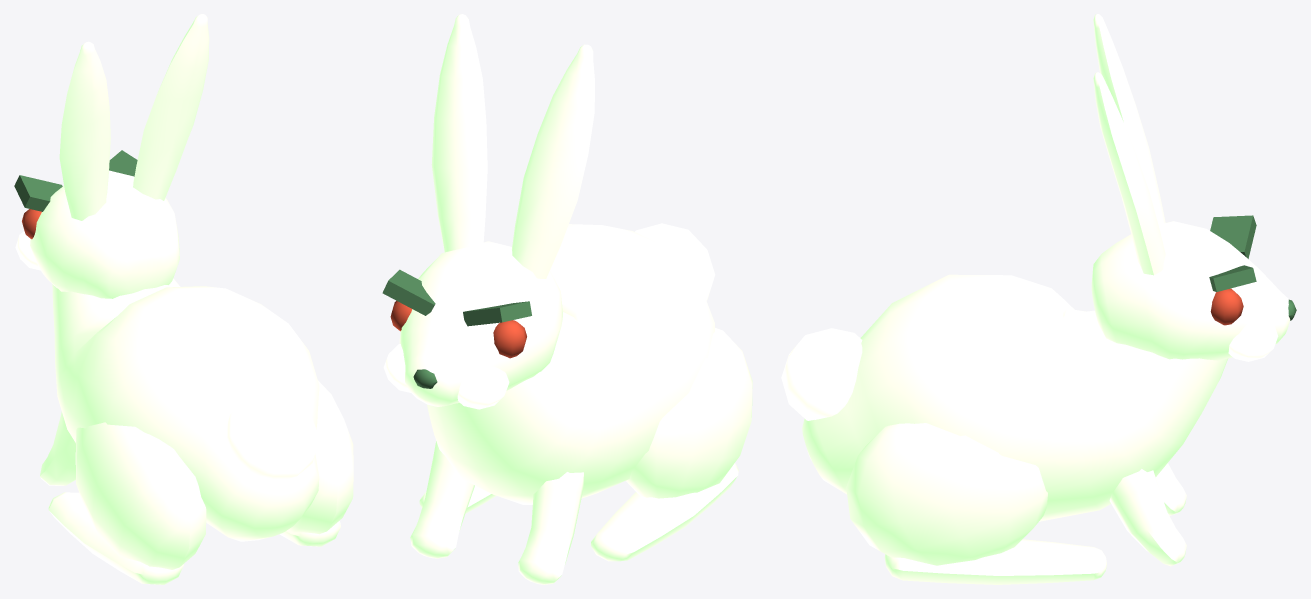
Rendered from GlowBunny.glb.
3 views of the same model, side by side, from view 1: azimuth 30°, elevation 25°; view 2: azimuth 150°, elevation 25°; view 3: azimuth 270°, elevation 25° (orthographic). The views are drawn at different scales.
Visible parts, largest first — view 1: Body, Head; view 2: Body, Head; view 3: Body, Head.
Boxes of the visible parts, left/top/right/bottom form: Body: left=40, top=278, right=353, bottom=584; Head: left=14, top=14, right=209, bottom=298; Body: left=410, top=223, right=752, bottom=584; Head: left=382, top=14, right=594, bottom=409; Body: left=781, top=274, right=1228, bottom=584; Head: left=1091, top=14, right=1296, bottom=361.
Size of the model in its own units: 0.49 by 0.9193 by 0.866.
